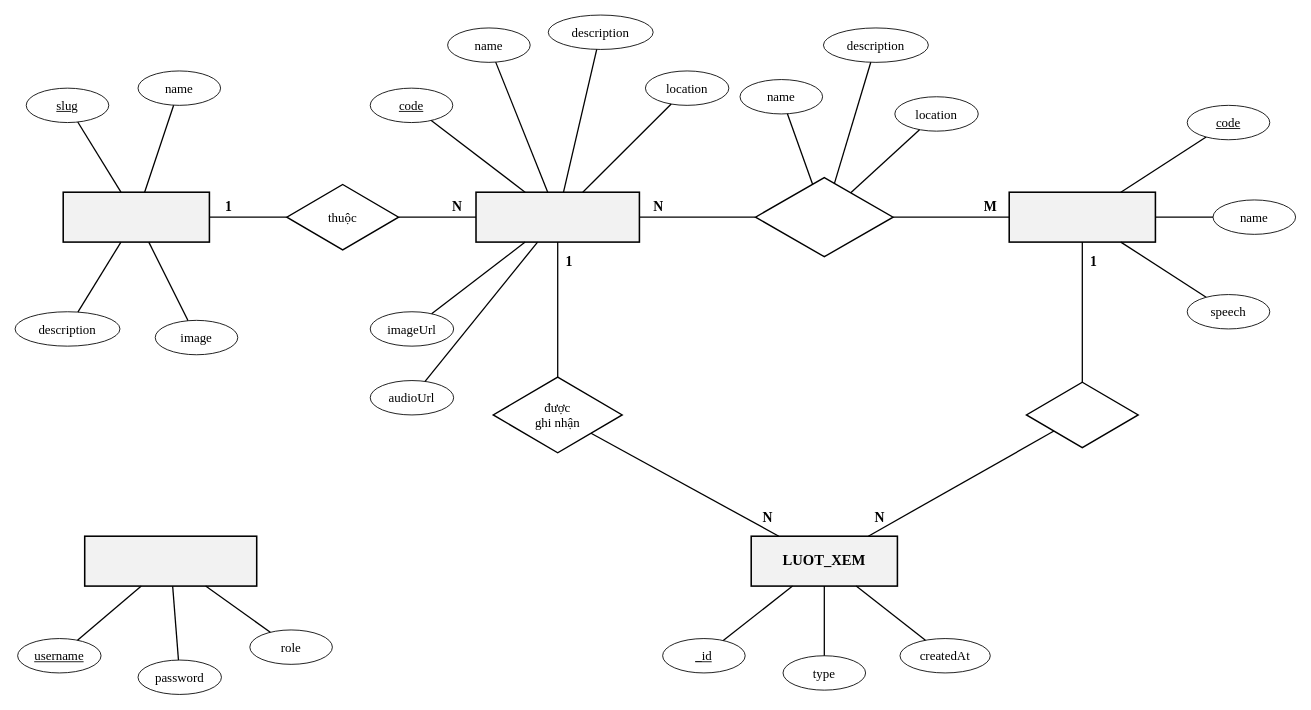
This 1311x710 diagram has some shape labels left out. The centre of each missing label's shape, as x and y in pixels:
CONG_TRINH: the point at 557,216
KHU_VUC: the point at 136,216
NGON_NGU: the point at 1082,216
QUAN_TRI_VIEN: the point at 170,560
theo: the point at 1081,414
được dịch sang: the point at 823,216
